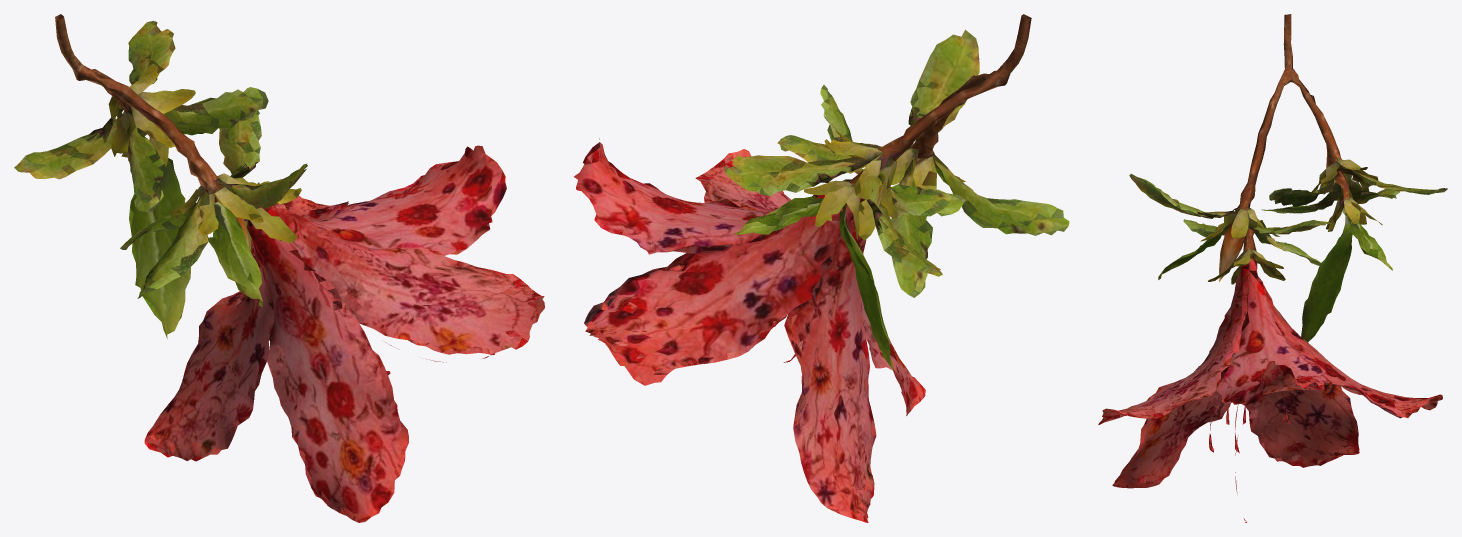
The picture shows the model from 3 angles, left to right: view 1: azimuth 30°, elevation 25°; view 2: azimuth 150°, elevation 25°; view 3: azimuth 270°, elevation 25°; orthographic projection. The views are drawn at different scales.
Parts seen in each view (by area): view 1: cfa693fc; view 2: cfa693fc; view 3: cfa693fc.
Part boxes in pixels (bbox=[...]): cfa693fc: bbox=[14, 14, 544, 522]; cfa693fc: bbox=[574, 14, 1069, 522]; cfa693fc: bbox=[1098, 14, 1447, 522].
Bounding box in the file's own units: 0.1468 × 0.1576 × 0.1244.
2 materials, 2 textured.
